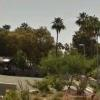Palm tree: (49, 8, 100, 62)
